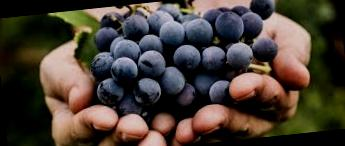Grape Rotten: (83, 0, 285, 129)
